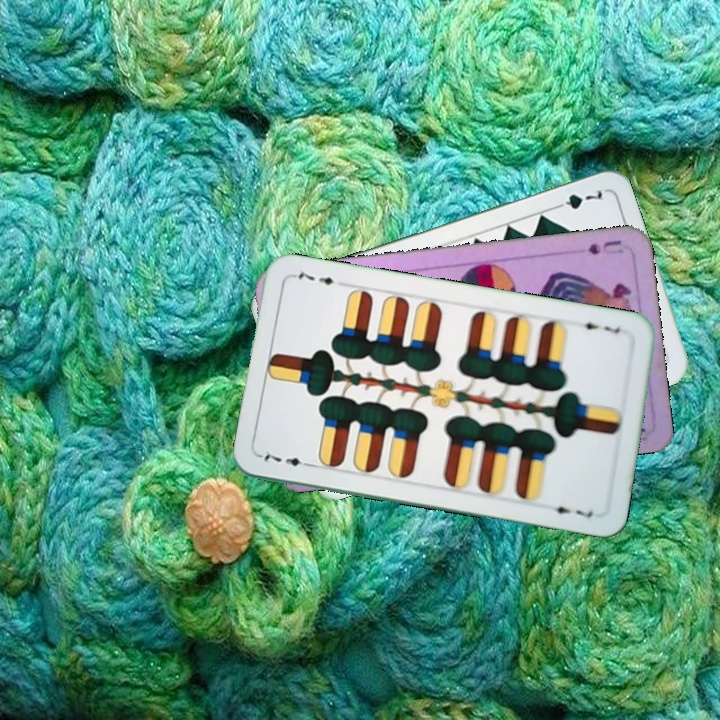E7: (257, 447, 315, 470), (574, 317, 622, 336)
G7: (549, 186, 608, 213)
SU: (584, 236, 625, 258)
